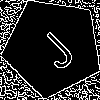J: (28, 22, 79, 73)
